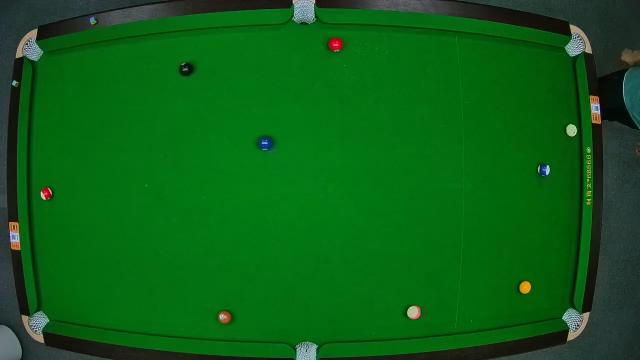bag1: (20, 40, 42, 62)
bag2: (292, 2, 316, 26)
bag3: (566, 36, 586, 58)
bag4: (29, 311, 49, 333)
bag5: (294, 340, 318, 360)
bag6: (562, 308, 582, 330)
ball0: (565, 124, 579, 136)
ball1: (518, 280, 534, 296)
ball10: (536, 162, 552, 178)
ball11: (38, 186, 52, 202)
ball12: (408, 305, 420, 319)
ball2: (258, 136, 272, 150)
ball3: (329, 36, 343, 52)
ball7: (217, 309, 233, 325)
ball8: (178, 62, 194, 77)
